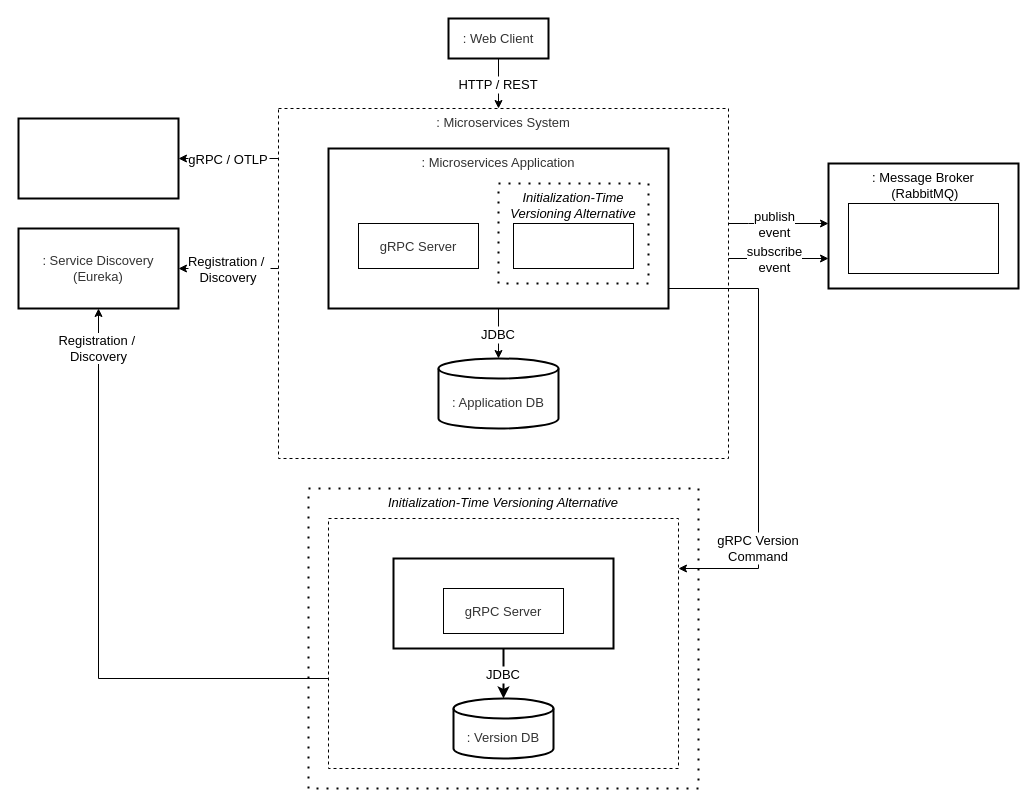
Image size: 1036x806. Some labels were removed from this diagram. Each missing label, with the box of its shape:
: Centralized Versioning System: (328, 518, 678, 768)
: Event Channel: (848, 202, 998, 274)
: Tracing Server (Jaeger): (17, 117, 179, 199)
: Versioning Application: (392, 557, 614, 649)
Snowflake ID: (512, 222, 634, 268)
